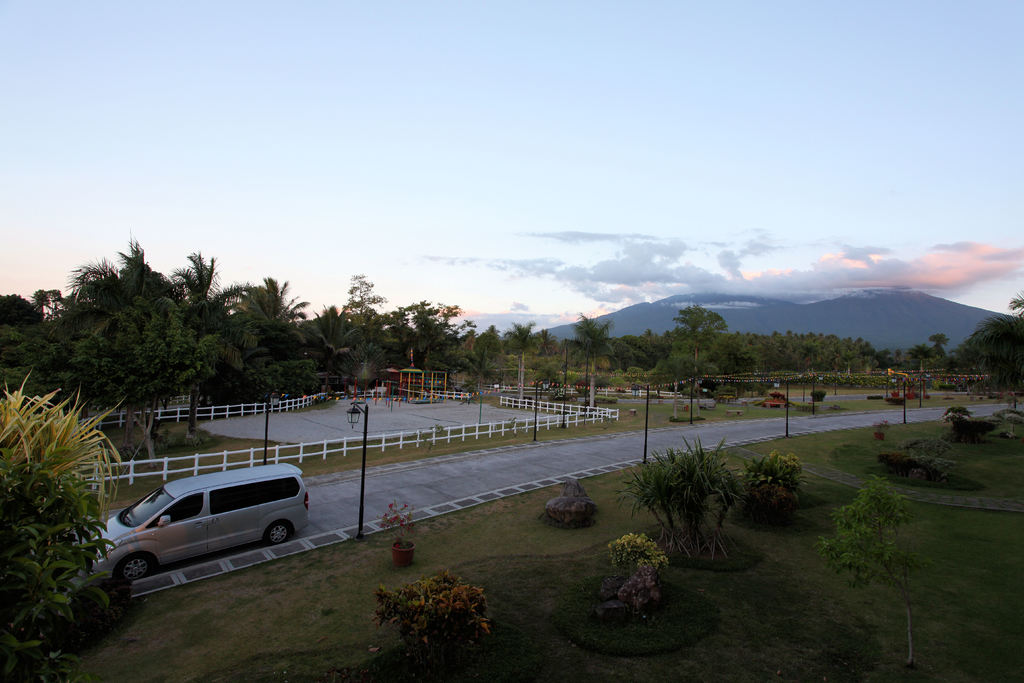Tree: (0, 232, 247, 458), (241, 274, 507, 396), (810, 469, 927, 668), (613, 333, 974, 387), (616, 433, 741, 547), (376, 568, 487, 661), (965, 285, 1023, 383), (671, 305, 727, 392), (609, 531, 667, 614), (565, 311, 615, 406), (738, 444, 803, 501), (504, 316, 538, 399), (907, 436, 951, 465), (946, 403, 970, 435)
